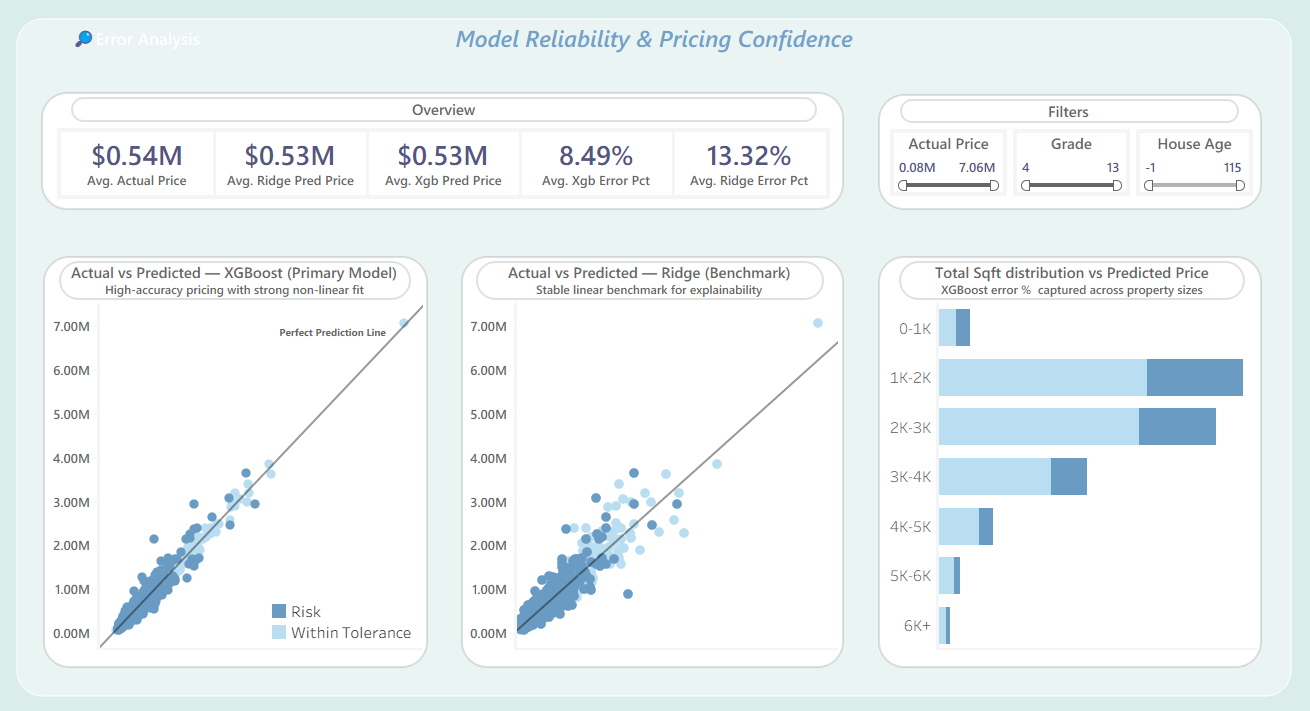

The dashboard page shown, as its layout file describes it:
{"tool":"tableau","page":{"name":"Model Reliability & Pricing Confidence","canvas":[1000,1000],"units":"permille","ordinal":1},"visuals":[{"type":"worksheet","title":"Ex-Back","mark":"Automatic","box":[0,0,1000,1000]},{"type":"text","box":[47.4,27.8,902.3,47.2]},{"type":"dashboard-object","box":[54.1,33.3,109.8,38.9]},{"type":"filter","title":"Actual vs Predicted — XGBoost","param":"[federated.0pb6tqq0hun84y1cwjt1z028dbxy].[none:actual_price:qk]","box":[674.4,175,91,98.6]},{"type":"filter","title":"Actual vs Predicted — XGBoost","param":"[federated.0pb6tqq0hun84y1cwjt1z028dbxy].[none:grade:qk]","box":[766.9,175,91,98.6]},{"type":"filter","title":"Ex-Back","param":"[federated.0pb6tqq0hun84y1cwjt1z028dbxy].[none:house_age:qk]","box":[859.4,175,91,98.6]},{"type":"worksheet","title":"KPI Tiles","mark":"Automatic","box":[49.6,176.4,581.2,98.6]},{"type":"blank","box":[166.9,176.4,2.3,97.2]},{"type":"blank","box":[281.9,176.4,2.3,97.2]},{"type":"blank","box":[397,176.4,2.3,97.2]},{"type":"blank","box":[512,176.4,2.3,97.2]},{"type":"worksheet","title":"Actual vs Predicted — XGBoost","mark":"Automatic","rows":["actual_price"],"cols":["xgb_pred_price"],"box":[43.6,419.4,281.2,481.9]},{"type":"worksheet","title":"Actual vs Predicted — Ridge","mark":"Automatic","rows":["actual_price"],"cols":["ridge_pred_price"],"box":[357.1,419.4,279.7,481.9]},{"type":"worksheet","title":"Total Sqft vs Predicted Price","mark":"Bar","rows":["Calculation_0555552130994176"],"cols":["xgb_pred_price"],"box":[671.4,419.4,280.4,481.9]},{"type":"text","box":[214.3,438.9,85.7,41.7]},{"type":"legend","title":"Total Sqft vs Predicted Price","param":"[federated.0pb6tqq0hun84y1cwjt1z028dbxy].[none:Calculation_0458520059084800:nk]","box":[209,833.3,112.8,58.3]}]}

Visuals, with their boxes on the dashboard's canvas, which has no fixed pixel size, in thousandths of its width and height (x1, y1, x2, y2). These are canvas units, not pixel positions in the 1310x711 screenshot, which may show the page scaled, cropped or inside an application window:
"Ex-Back" worksheet: box=[0, 0, 1000, 1000]
text: box=[47, 28, 950, 75]
dashboard-object: box=[54, 33, 164, 72]
"Actual vs Predicted — XGBoost" filter: box=[674, 175, 765, 274]
"Actual vs Predicted — XGBoost" filter: box=[767, 175, 858, 274]
"Ex-Back" filter: box=[859, 175, 950, 274]
"KPI Tiles" worksheet: box=[50, 176, 631, 275]
blank: box=[167, 176, 169, 274]
blank: box=[282, 176, 284, 274]
blank: box=[397, 176, 399, 274]
blank: box=[512, 176, 514, 274]
"Actual vs Predicted — XGBoost" worksheet: box=[44, 419, 325, 901]
"Actual vs Predicted — Ridge" worksheet: box=[357, 419, 637, 901]
"Total Sqft vs Predicted Price" worksheet (Bar marks): box=[671, 419, 952, 901]
text: box=[214, 439, 300, 481]
"Total Sqft vs Predicted Price" legend: box=[209, 833, 322, 892]
